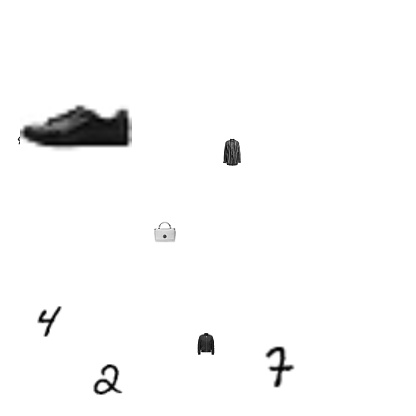2: (86, 360, 128, 402)
4: (27, 299, 69, 341), (13, 132, 27, 146)
7: (250, 335, 306, 391)
Bag: (154, 221, 176, 243)
Coat: (195, 333, 217, 355)
Shirt: (218, 138, 246, 166)
Sneaker: (20, 70, 132, 182)
